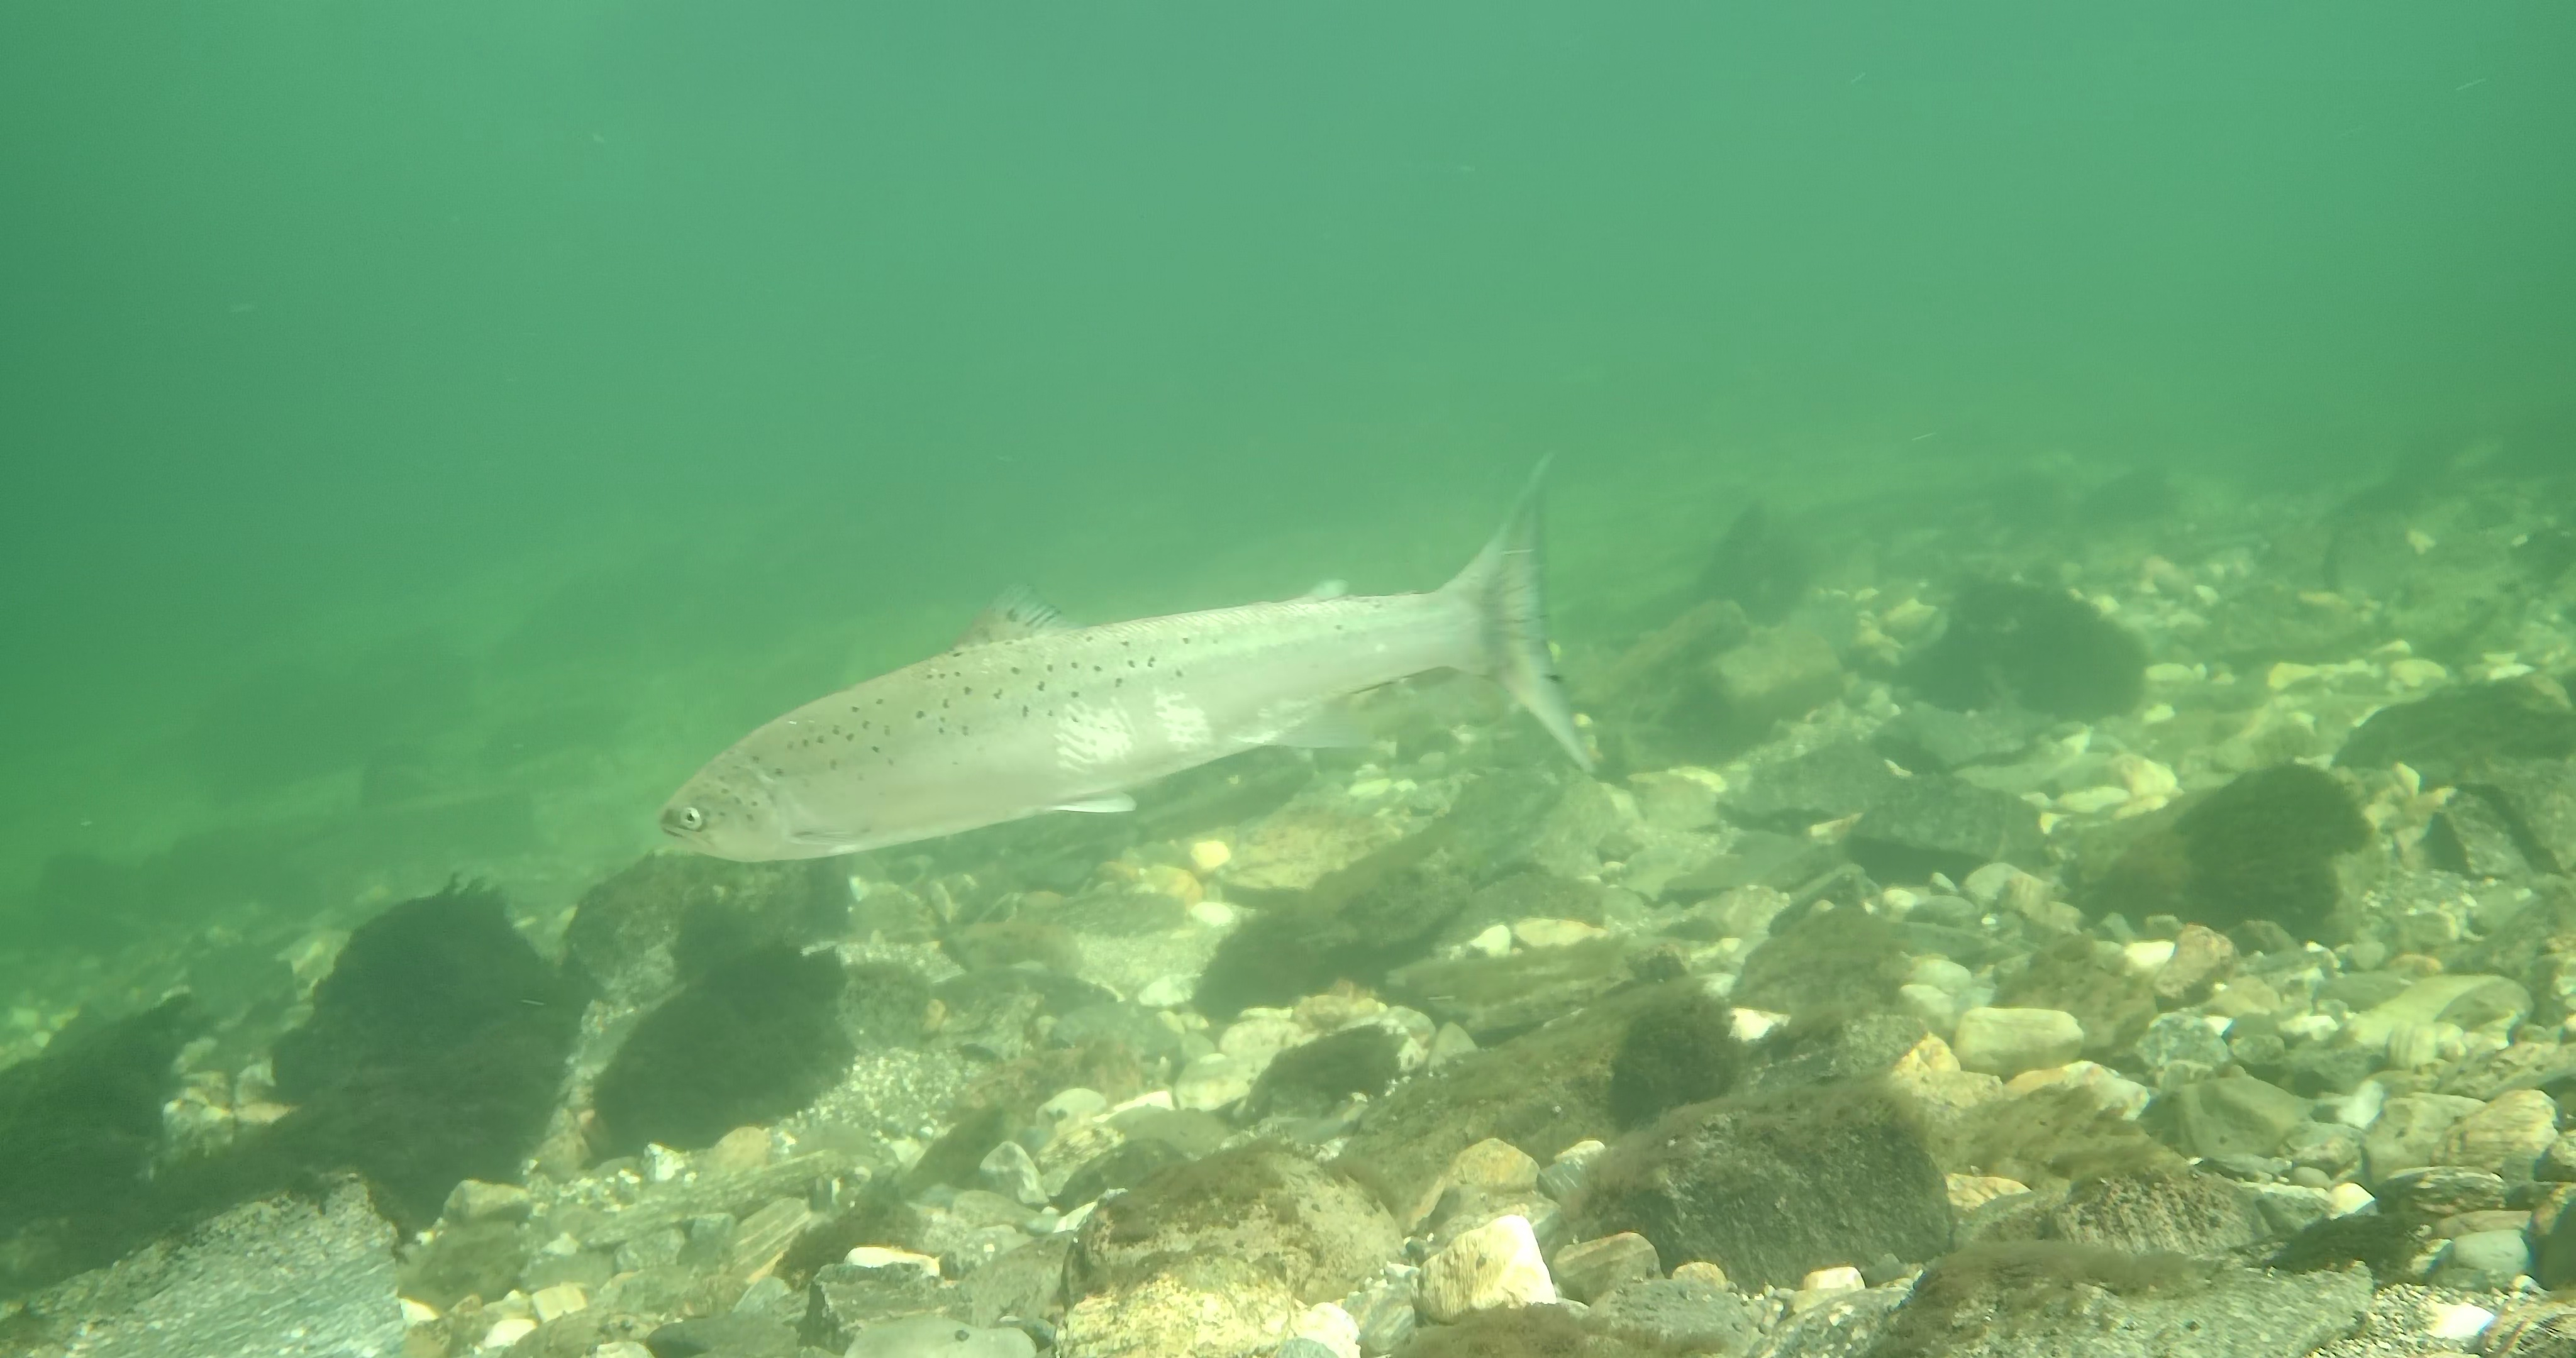salmon: (656, 445, 1605, 866)
